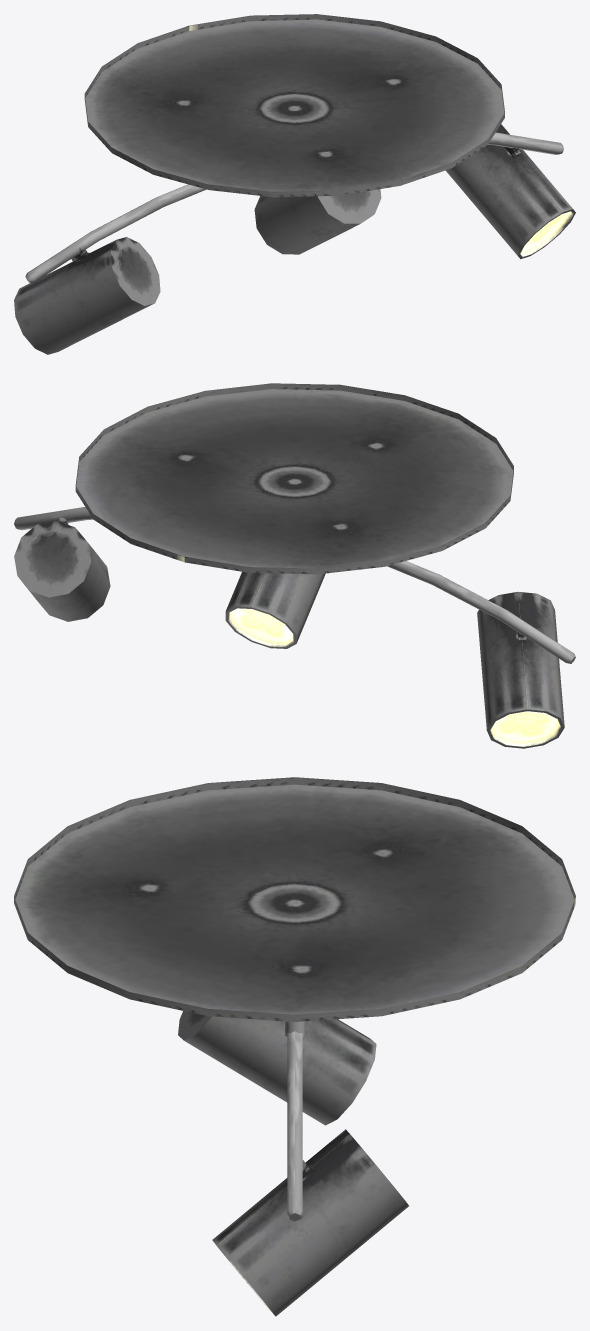
The model's file is SM_Light_Ceiling_03.glb.
3 renders of one model, top to bottom at view 1: azimuth 30°, elevation 25°; view 2: azimuth 150°, elevation 25°; view 3: azimuth 270°, elevation 25°, orthographic. The views are drawn at different scales.
Visible parts, largest first — view 1: SM_Light_Ceiling_03; view 2: SM_Light_Ceiling_03; view 3: SM_Light_Ceiling_03.
Boxes of the visible parts, x1,y1,x2,y2 form: SM_Light_Ceiling_03: (14,14,575,354); SM_Light_Ceiling_03: (14,383,575,748); SM_Light_Ceiling_03: (14,777,575,1316).
Size of the model in its own units: 0.5877 by 0.2113 by 0.4011.
1 material, 1 textured.
